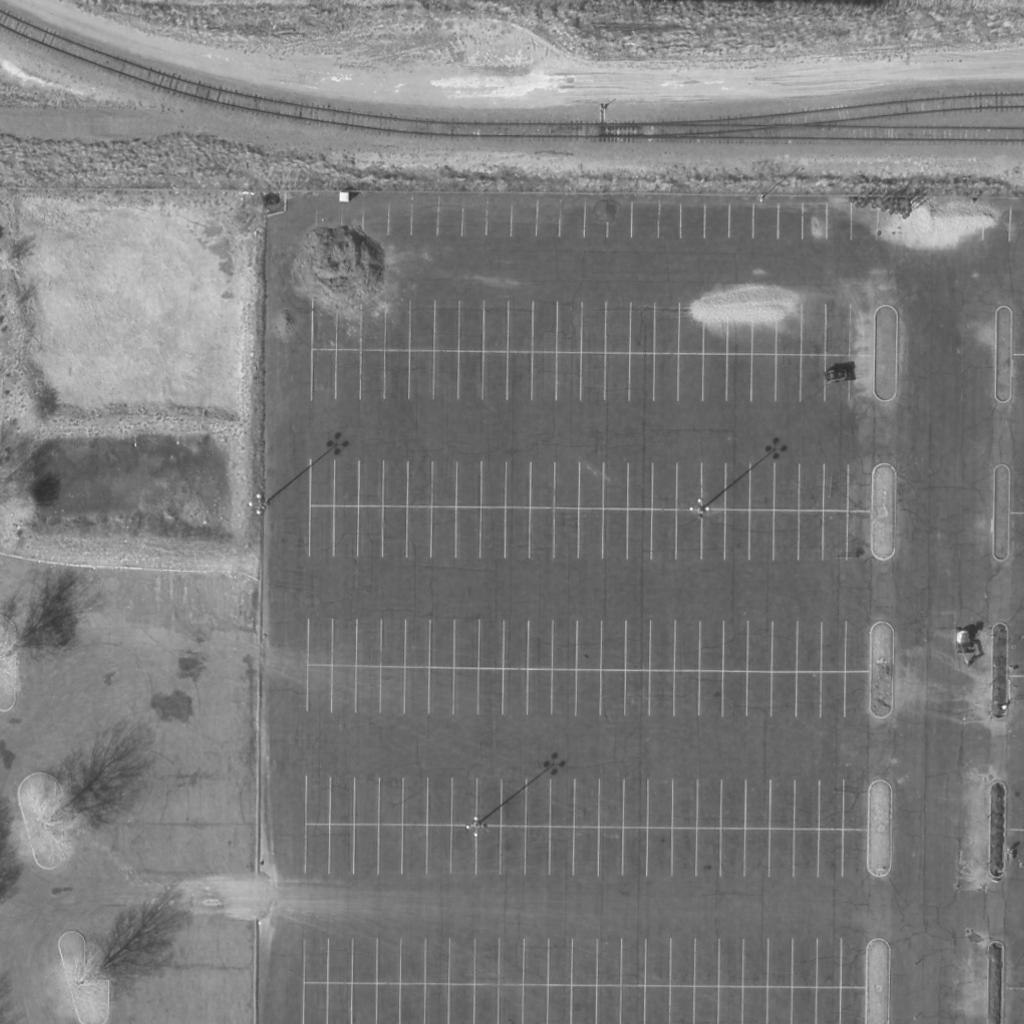vehicle: (955, 630, 975, 666)
